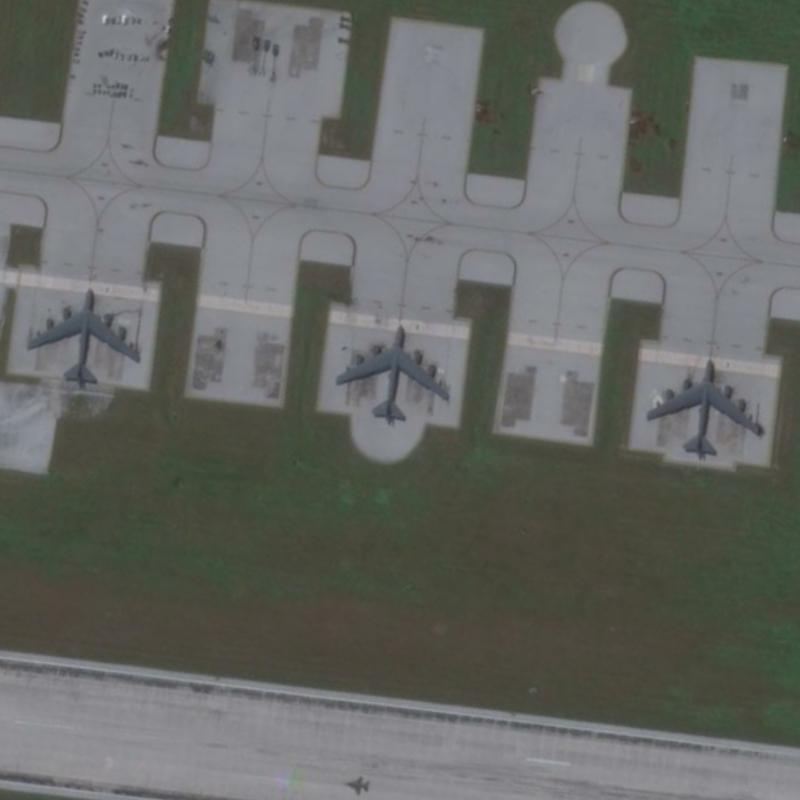A8: (641, 355, 765, 459), (22, 284, 144, 389), (329, 322, 453, 423)
